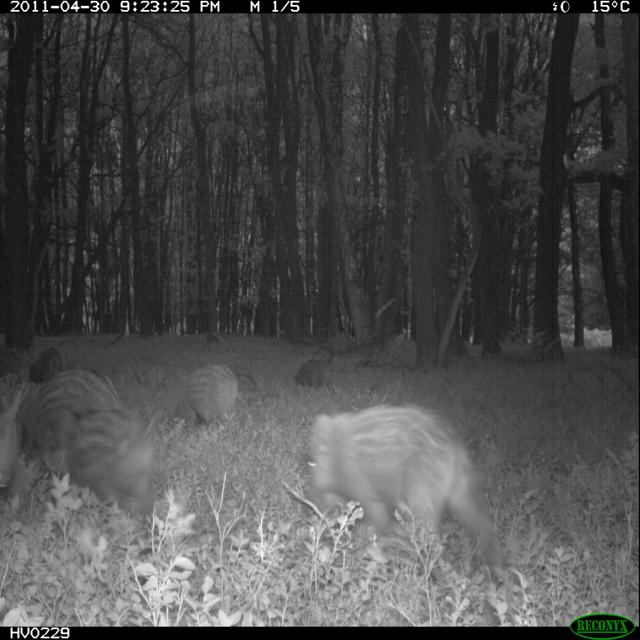boar: (272, 381, 517, 594), (0, 338, 187, 575), (141, 344, 278, 446), (21, 338, 68, 392), (287, 349, 337, 398)
